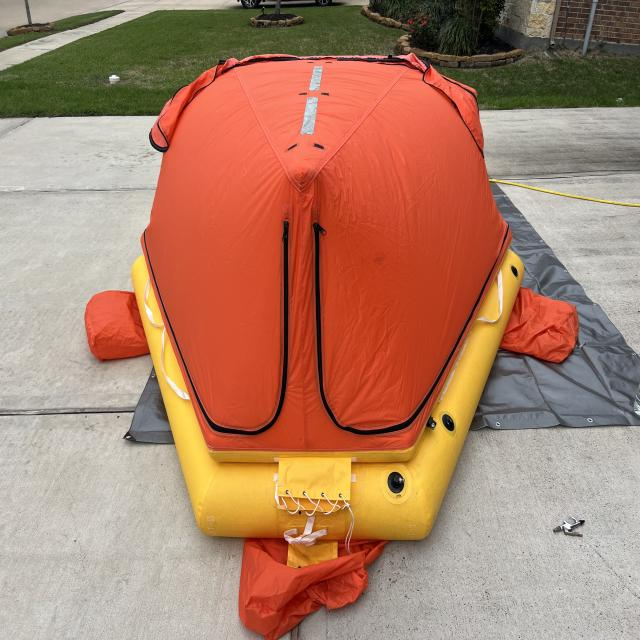Multi-person_life_raft: (85, 51, 577, 640)
